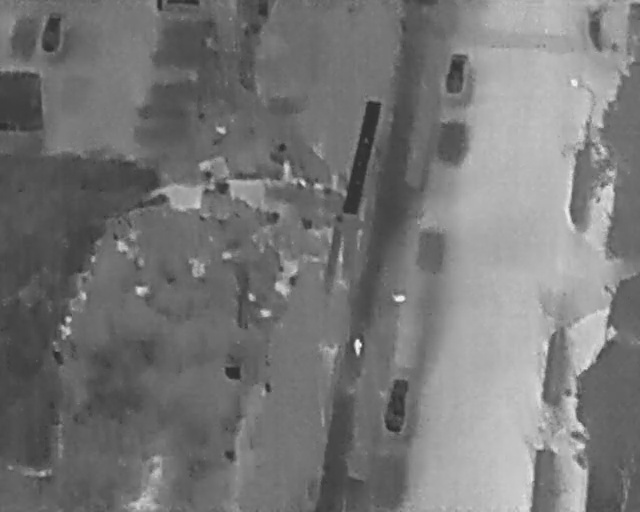Car: (381, 376, 412, 435), (442, 50, 469, 96)
Person: (353, 338, 362, 356)
